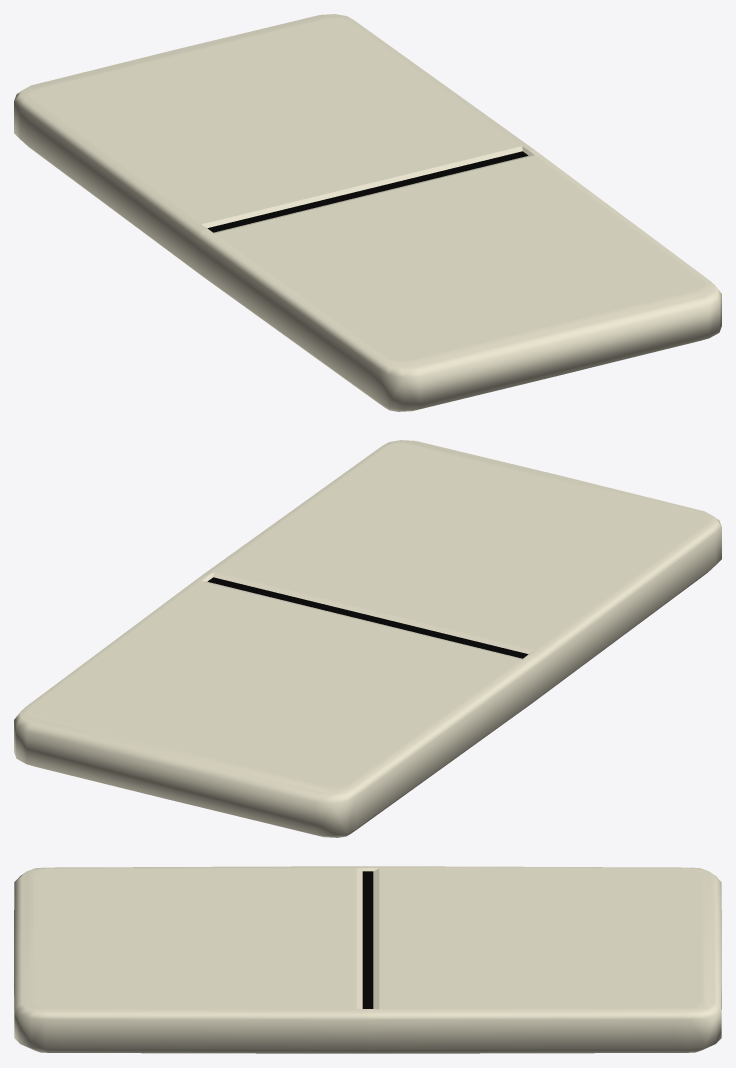
The model's file is Domino_0_0.glb.
3 views of the same model, one above another, from view 1: azimuth 30°, elevation 25°; view 2: azimuth 150°, elevation 25°; view 3: azimuth 270°, elevation 25° (orthographic). The views are drawn at different scales.
Parts seen in each view (by area): view 1: Domino_0_0_A.001, Domino_0_0_B.001; view 2: Domino_0_0_B.001, Domino_0_0_A.001; view 3: Domino_0_0_A.001, Domino_0_0_B.001.
Boxes of the visible parts, <box> form: Domino_0_0_A.001: <box>197,149,721,411</box>; Domino_0_0_B.001: <box>14,14,533,276</box>; Domino_0_0_B.001: <box>14,575,538,837</box>; Domino_0_0_A.001: <box>202,440,721,702</box>; Domino_0_0_A.001: <box>14,866,367,1053</box>; Domino_0_0_B.001: <box>368,866,721,1053</box>.
Size of the model in its own units: 0.7725 by 0.105 by 1.54.
